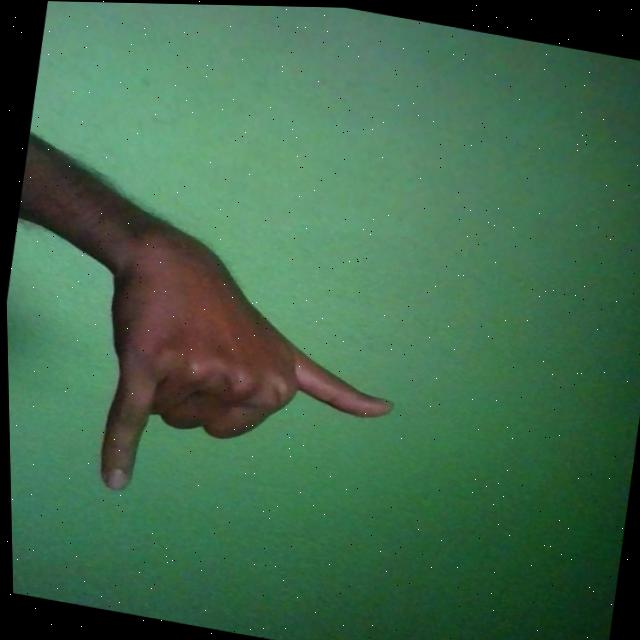Call Me: (76, 209, 420, 538)
